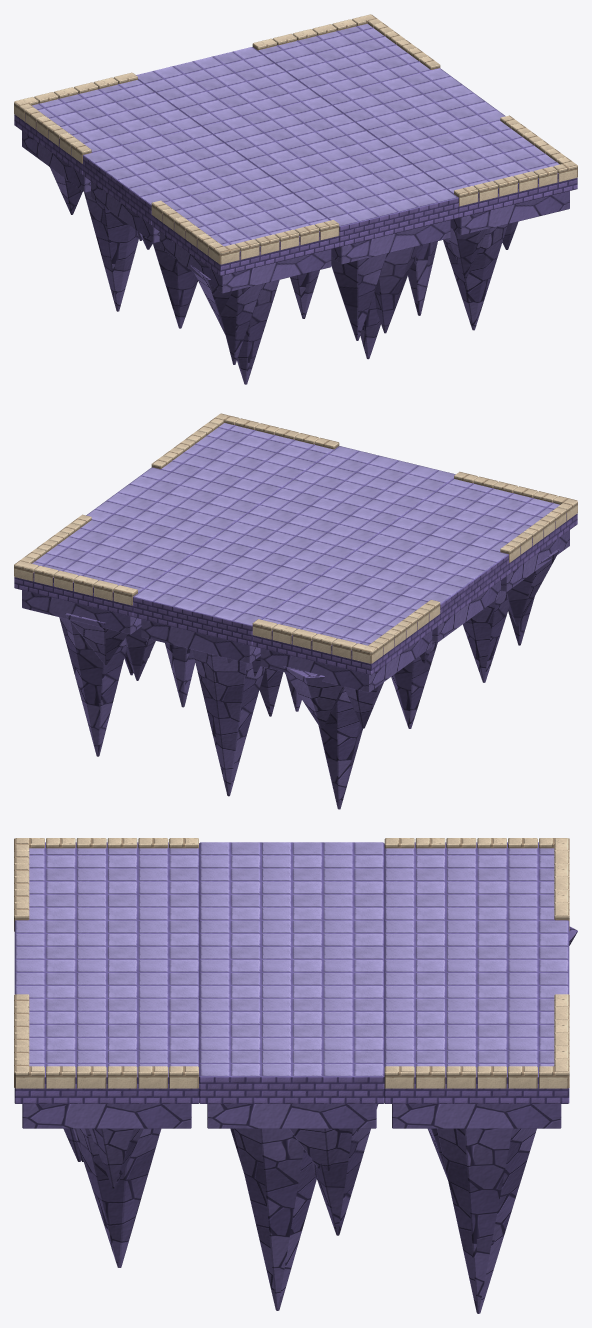
Rendered from Plataforma_Grande_3x3.fbx.
3 renders of one model, top to bottom at view 1: azimuth 30°, elevation 25°; view 2: azimuth 150°, elevation 25°; view 3: azimuth 270°, elevation 25°, orthographic. The views are drawn at different scales.
Parts seen in each view (by area): view 1: Mod_Plataforma_Grande_3x3; view 2: Mod_Plataforma_Grande_3x3; view 3: Mod_Plataforma_Grande_3x3.
Boxes of the visible parts, left/top/right/bottom form: Mod_Plataforma_Grande_3x3: left=14, top=14, right=577, bottom=384; Mod_Plataforma_Grande_3x3: left=14, top=413, right=577, bottom=809; Mod_Plataforma_Grande_3x3: left=14, top=838, right=577, bottom=1313.
Bounding box in the file's own units: 18.04 × 10 × 18.31.
